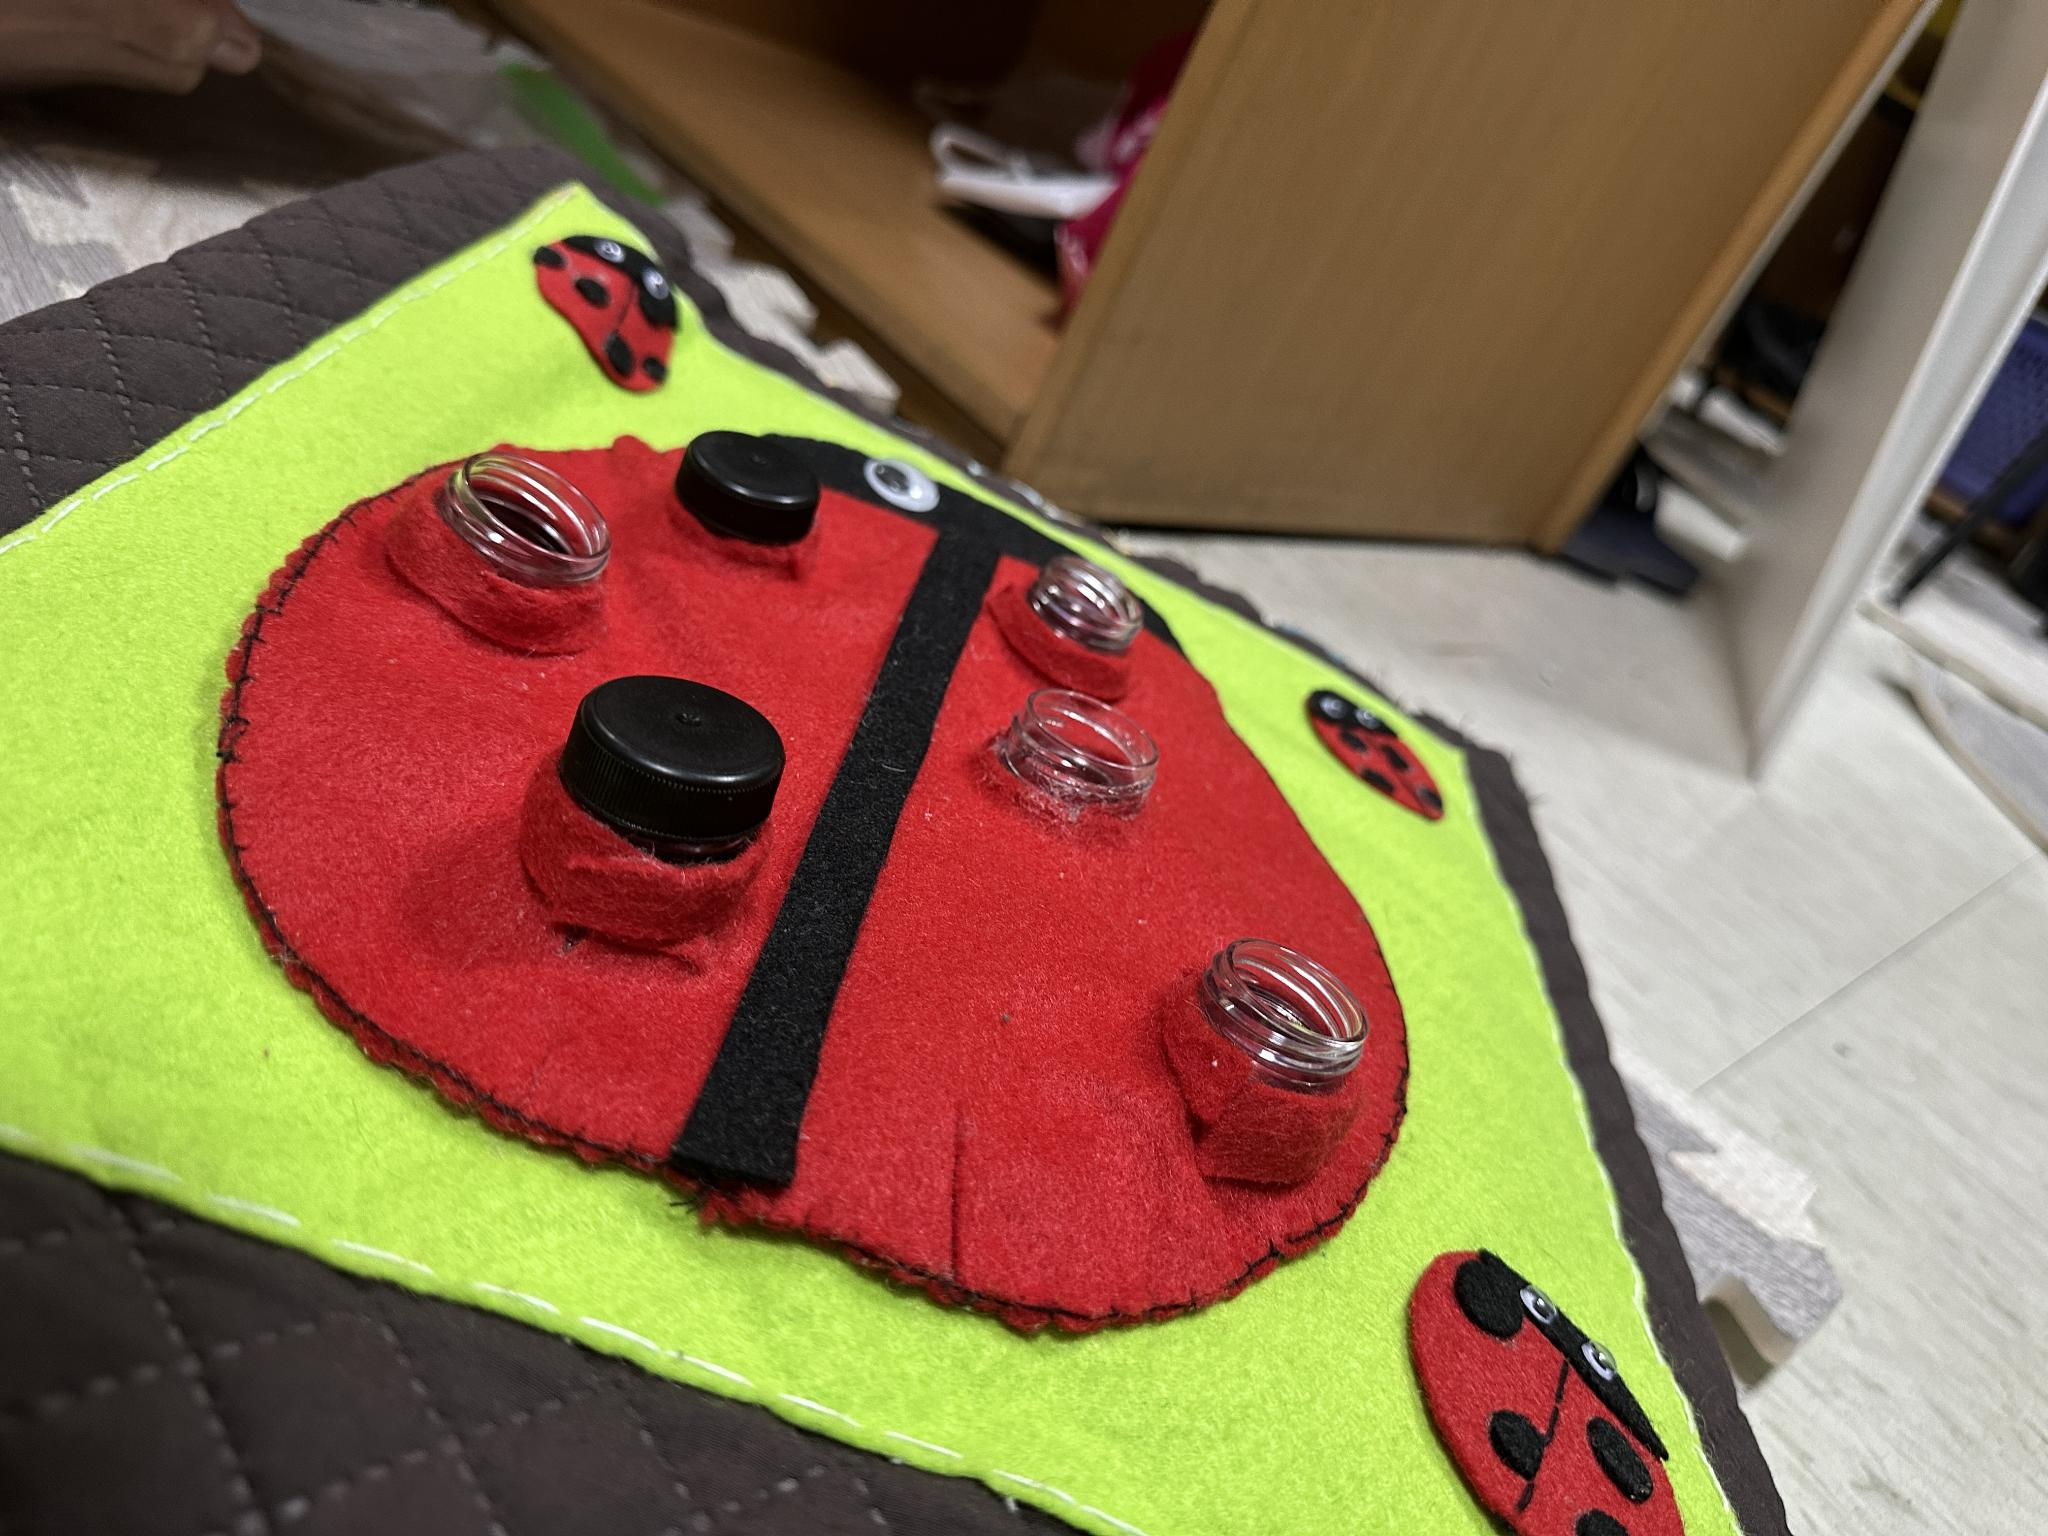cap_ok: (511, 653, 806, 971), (658, 416, 842, 582)
